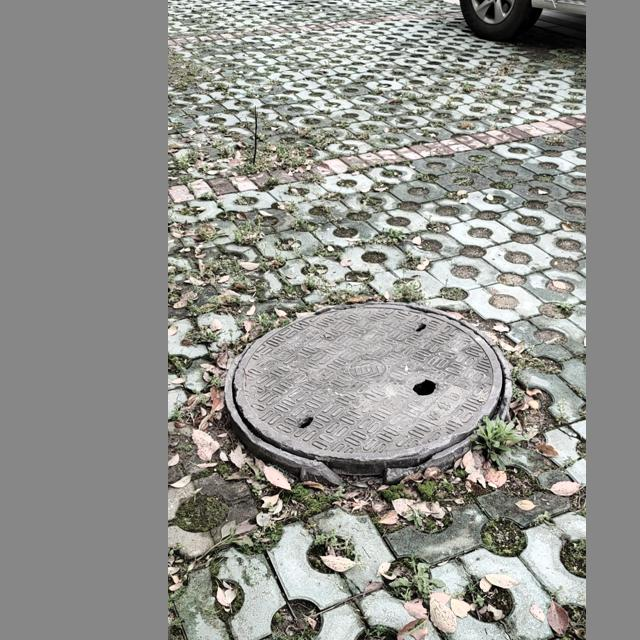broke: (223, 298, 516, 486)
